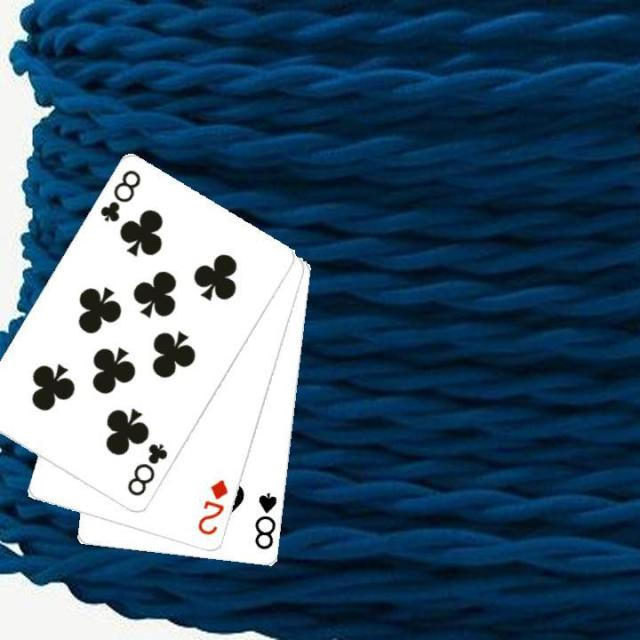2D: (194, 476, 230, 538)
8C: (122, 440, 170, 499), (96, 166, 143, 225)
8S: (251, 489, 279, 552)
